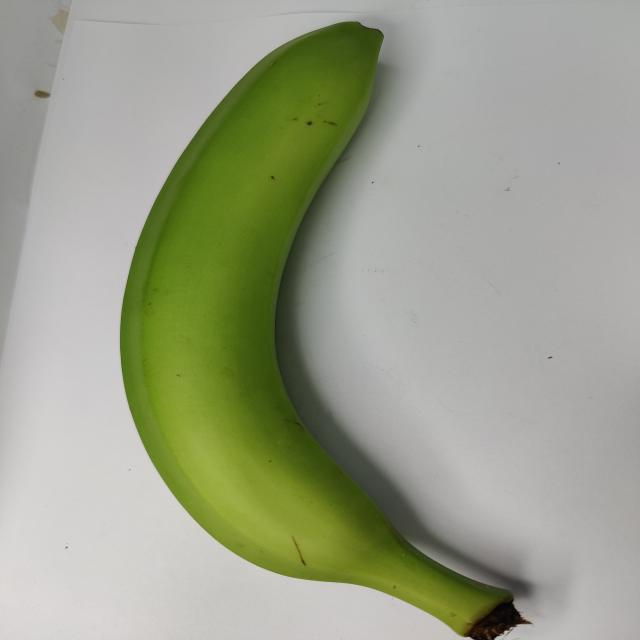raw: (81, 0, 566, 640)
